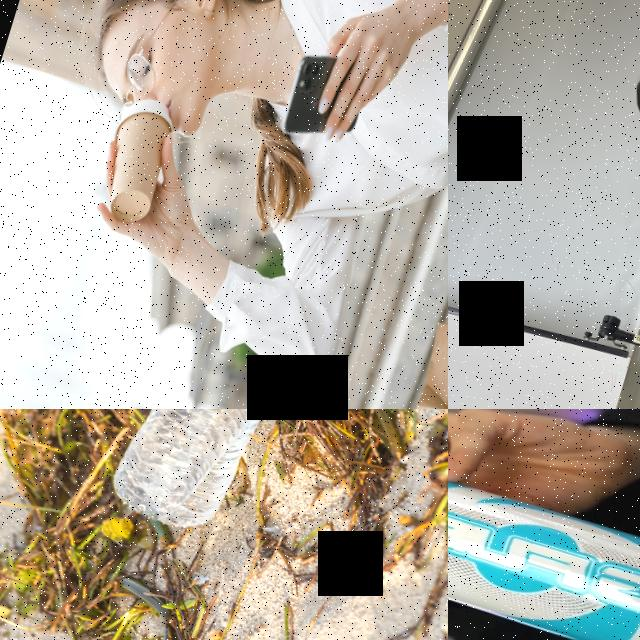bottle: (104, 409, 295, 549)
can: (448, 429, 640, 640)
cup: (88, 89, 182, 229)
